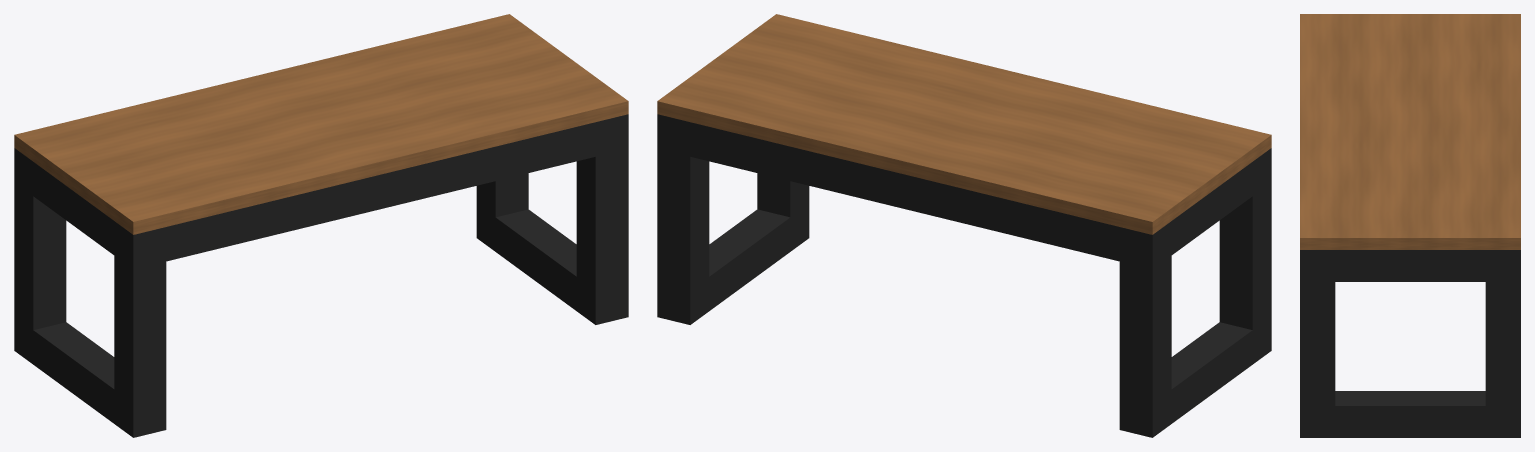
File: mesa-living-nord-roble-negro-8cm.glb
3 views of the same model, side by side, from view 1: azimuth 30°, elevation 25°; view 2: azimuth 150°, elevation 25°; view 3: azimuth 270°, elevation 25° (orthographic). The views are drawn at different scales.
Parts seen in each view (by area): view 1: Tapa de madera maciza 120 x 50 cm, Pata recta de hierro 8 x 8 cm (×4), Larguero longitudinal superior recto, Travesaño inferior recto (×2), Travesaño superior recto; view 2: Tapa de madera maciza 120 x 50 cm, Pata recta de hierro 8 x 8 cm (×4), Larguero longitudinal superior recto, Travesaño inferior recto (×2), Travesaño superior recto; view 3: Tapa de madera maciza 120 x 50 cm, Pata recta de hierro 8 x 8 cm (×2), Travesaño inferior recto, Travesaño superior recto.
Part boxes in pixels (left/top/right/bottom): Tapa de madera maciza 120 x 50 cm: left=14, top=14, right=628, bottom=234; Pata recta de hierro 8 x 8 cm (×4): left=14, top=114, right=628, bottom=437; Larguero longitudinal superior recto: left=166, top=122, right=595, bottom=261; Travesaño inferior recto (×2): left=24, top=209, right=585, bottom=429; Travesaño superior recto: left=24, top=156, right=123, bottom=261; Tapa de madera maciza 120 x 50 cm: left=657, top=14, right=1271, bottom=234; Pata recta de hierro 8 x 8 cm (×4): left=657, top=114, right=1271, bottom=437; Larguero longitudinal superior recto: left=690, top=122, right=1119, bottom=261; Travesaño inferior recto (×2): left=700, top=209, right=1261, bottom=430; Travesaño superior recto: left=1162, top=155, right=1261, bottom=262; Tapa de madera maciza 120 x 50 cm: left=1300, top=14, right=1520, bottom=249; Pata recta de hierro 8 x 8 cm (×2): left=1300, top=250, right=1520, bottom=437; Travesaño inferior recto: left=1318, top=391, right=1502, bottom=437; Travesaño superior recto: left=1317, top=250, right=1503, bottom=281.
Bounding box in the file's own units: 1.2 × 0.5 × 0.5.
Materials: 2 (1 with a texture image).
